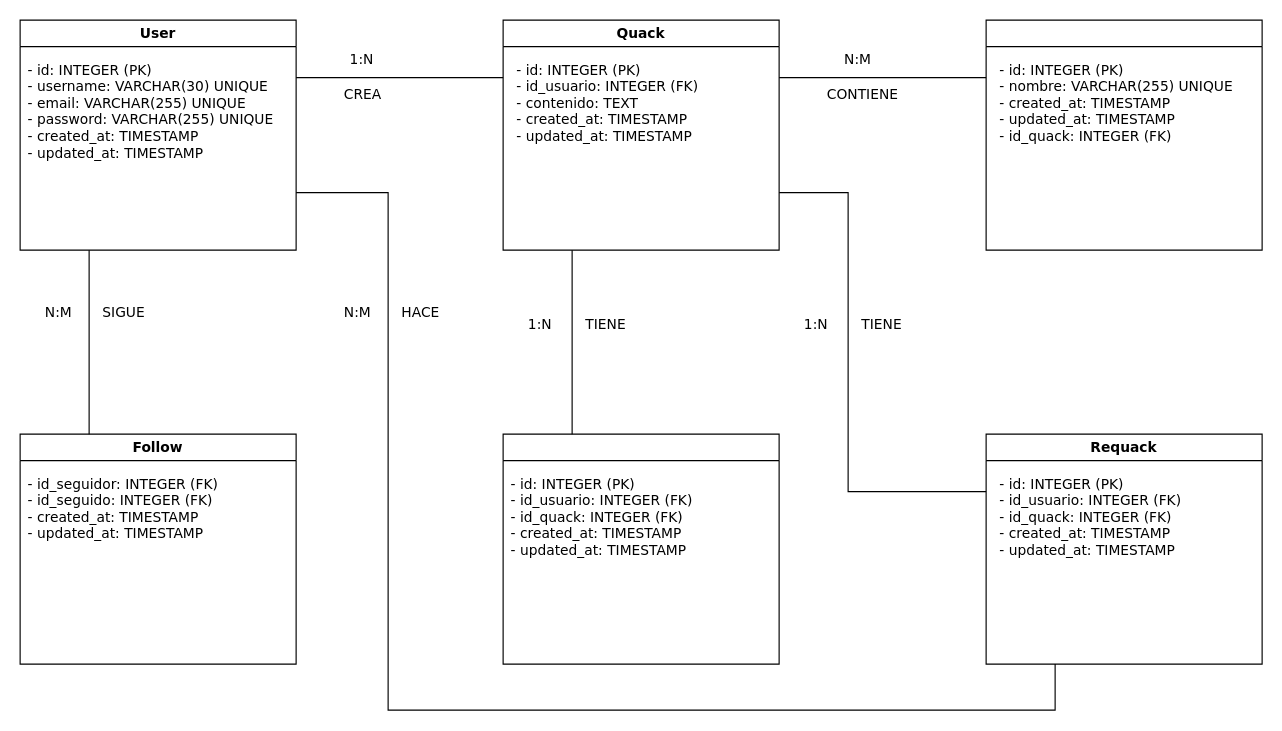
Some shapes in this 1282 by 731 pixel diagram are drawn without their labels. Here are the shapes that lost their labels. From the top down, the box of each, then its label:
(985, 19, 1262, 250): Quashtag
(502, 433, 779, 664): Quav
